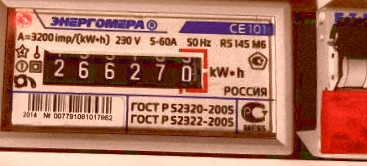0: (178, 62, 192, 82)
2: (51, 56, 64, 77), (128, 60, 141, 81)
6: (102, 59, 115, 79), (76, 58, 88, 79)
7: (154, 61, 164, 80)
screen: (29, 38, 214, 99)
